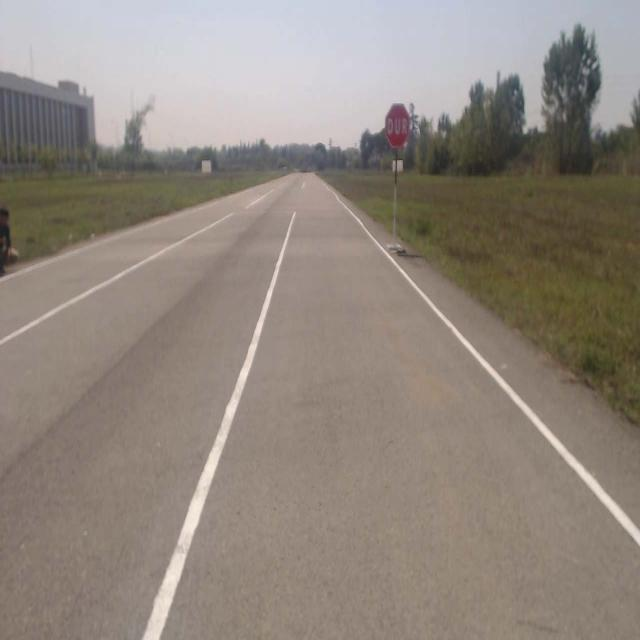dur: (385, 104, 410, 148)
